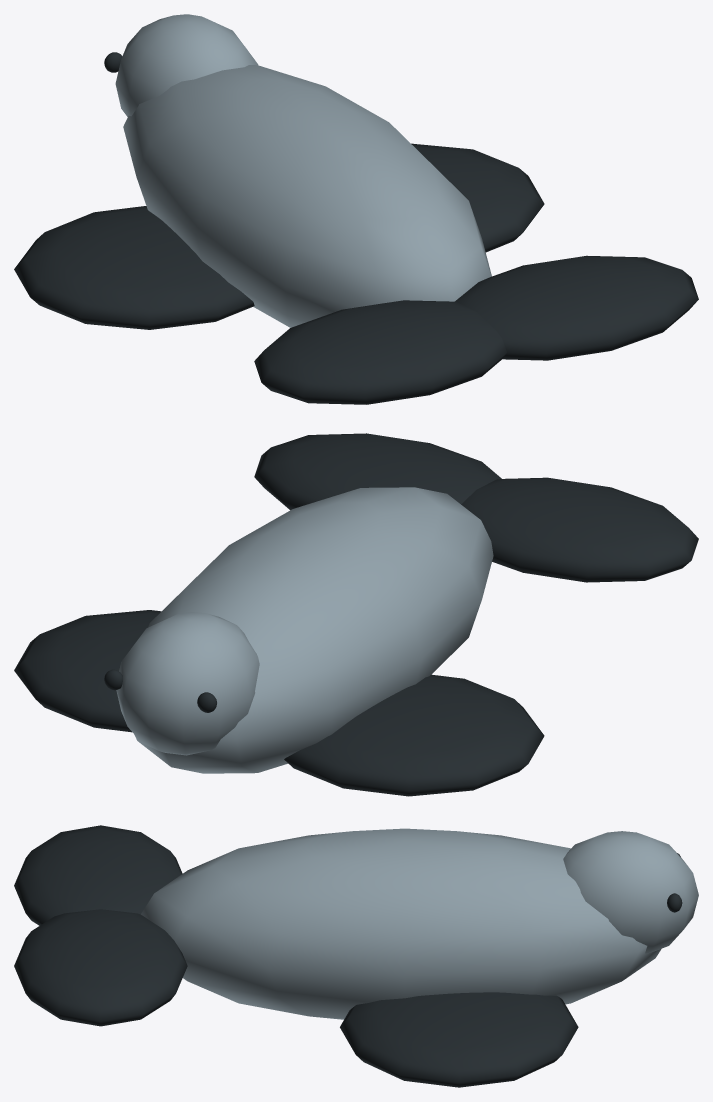
The model's file is animal_seal.glb.
3 views of the same model, one above another, from view 1: azimuth 30°, elevation 25°; view 2: azimuth 150°, elevation 25°; view 3: azimuth 270°, elevation 25° (orthographic). The views are drawn at different scales.
Parts seen in each view (by area): view 1: Body; view 2: Body; view 3: Body.
Boxes of the visible parts, box(x1,y1,x2,y2) form: Body: box(14, 14, 698, 404); Body: box(14, 433, 698, 796); Body: box(14, 825, 698, 1087).
Bounding box in the file's own units: 1.54 × 0.564 × 2.02.
